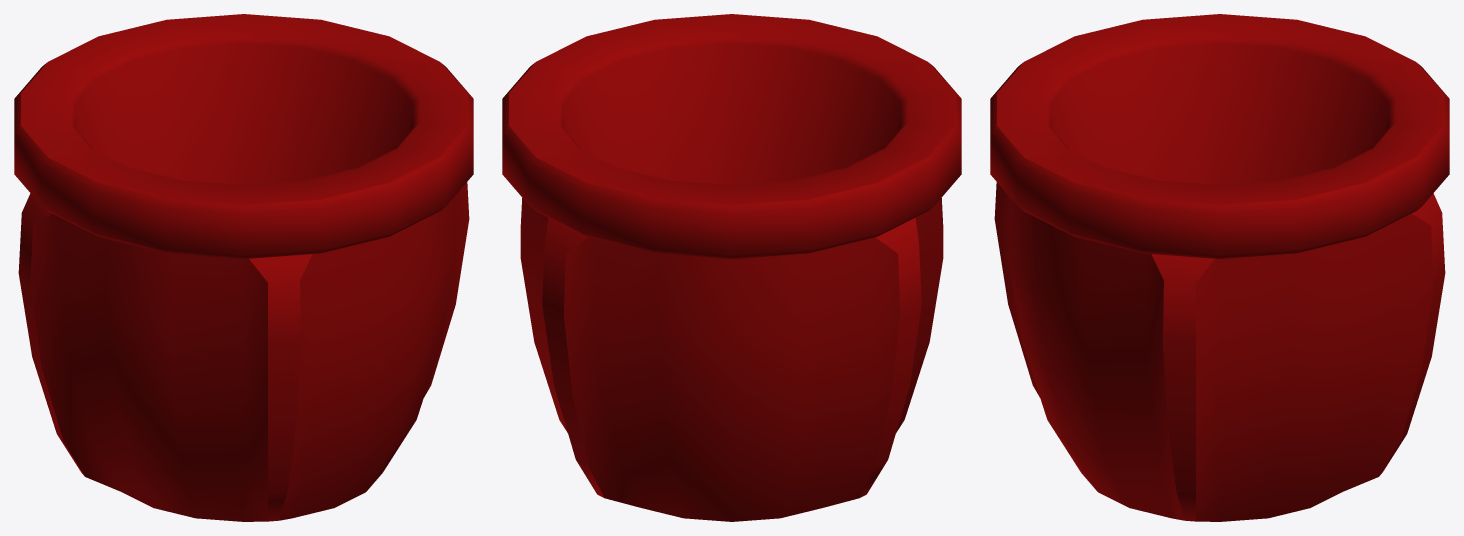
File: S_Envi_Common_woodvase_01a.gltf
The picture shows the model from 3 angles, left to right: view 1: azimuth 30°, elevation 25°; view 2: azimuth 150°, elevation 25°; view 3: azimuth 270°, elevation 25°; orthographic projection.
Visible parts, largest first — view 1: S_Envi_Common_woodvase_01a; view 2: S_Envi_Common_woodvase_01a; view 3: S_Envi_Common_woodvase_01a.
Boxes of the visible parts, left/top/right/bottom form: S_Envi_Common_woodvase_01a: left=14, top=14, right=473, bottom=521; S_Envi_Common_woodvase_01a: left=502, top=14, right=961, bottom=521; S_Envi_Common_woodvase_01a: left=990, top=14, right=1449, bottom=521.
Bounding box in the file's own units: 0.6738 × 0.5623 × 0.6635.
